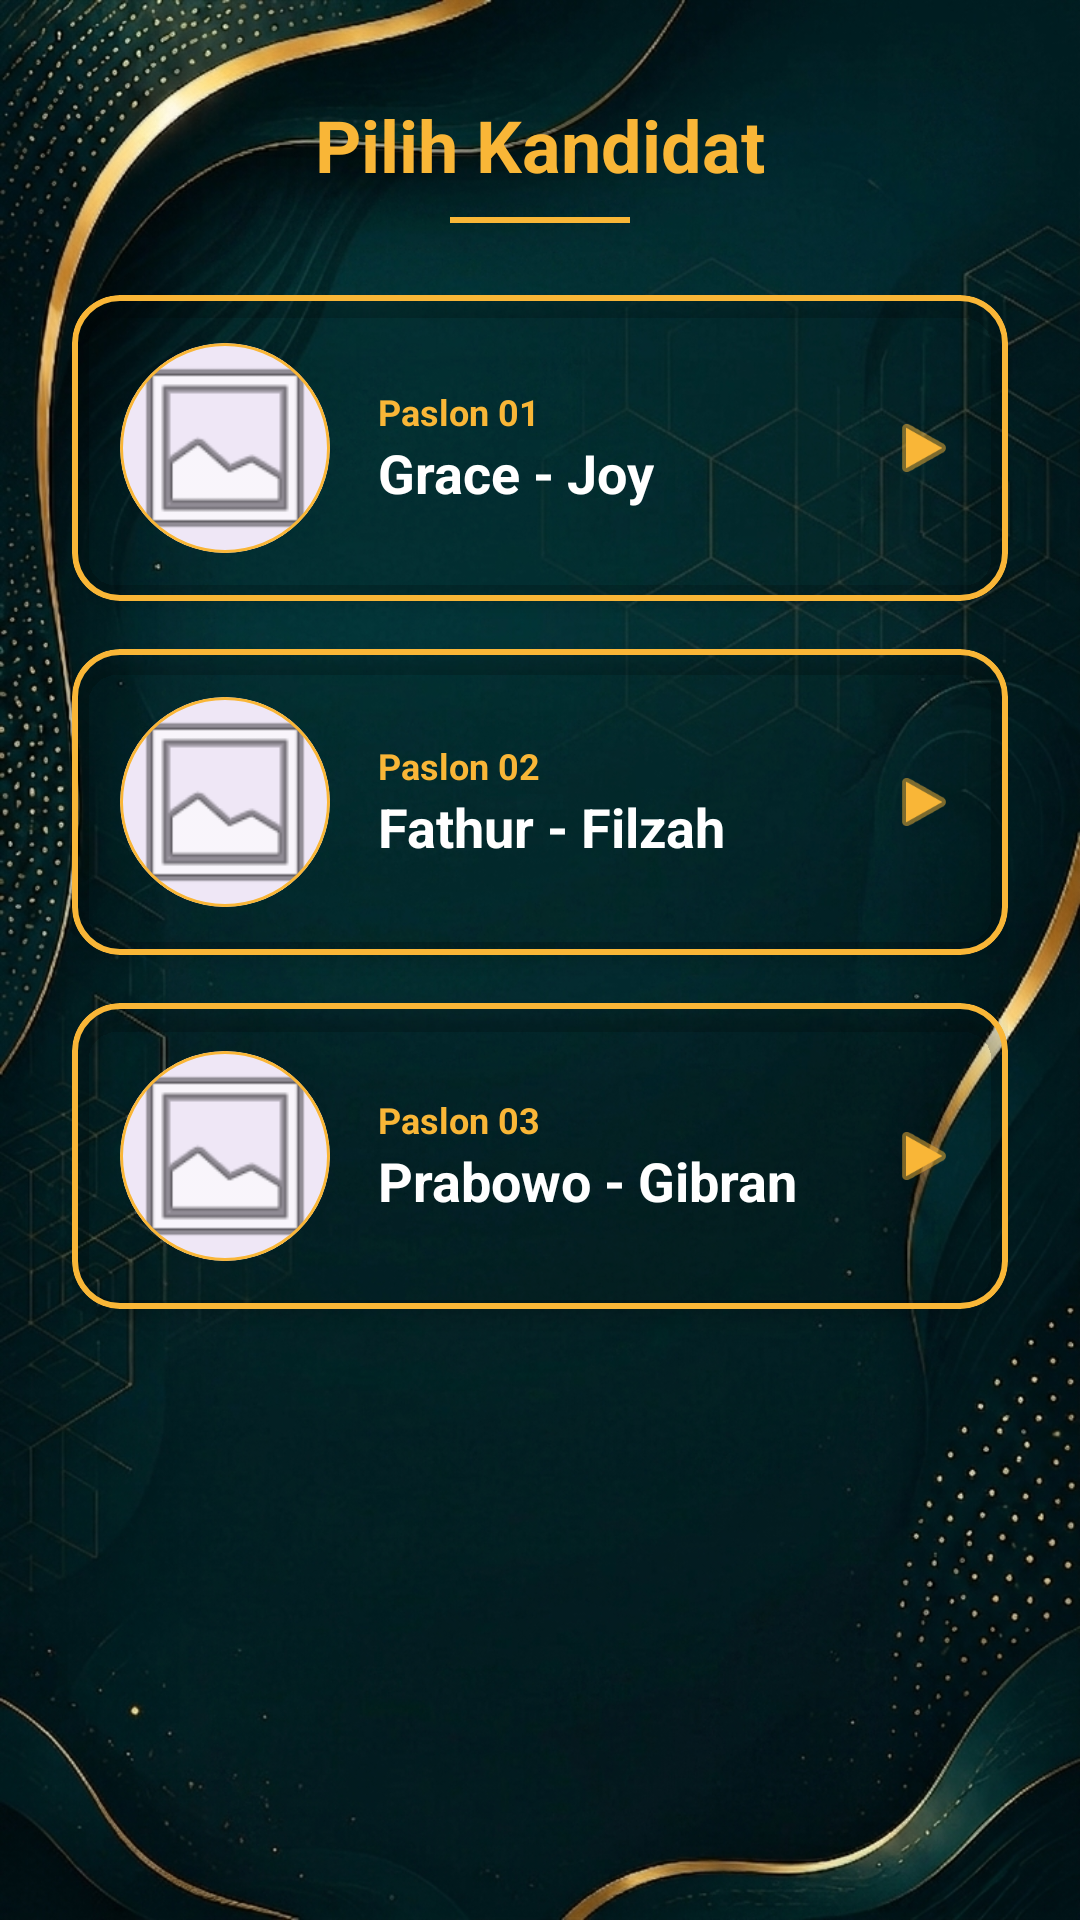

Screen size 1080 x 1920. Icon name, then its center in pixels as (x,y):
gallery: (225,448), (225,802), (225,1156)
play: (924,448), (924,802), (928,1156)
